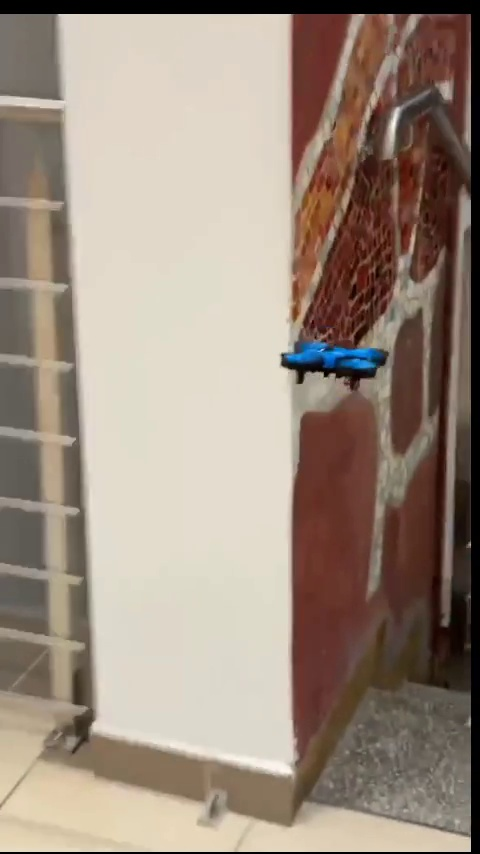drone: (283, 342, 391, 393)
